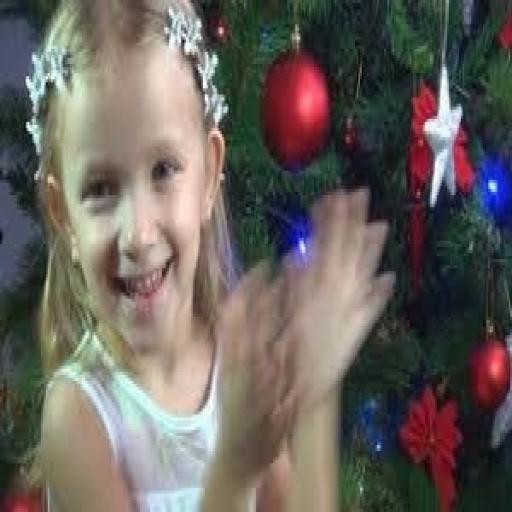clapping: (22, 0, 396, 509)
